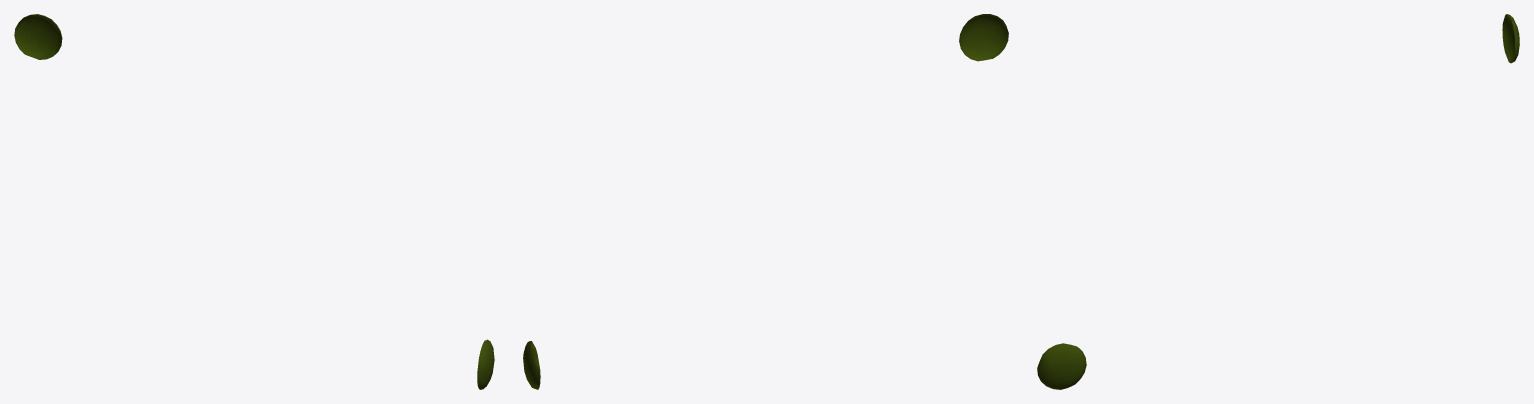
File: mc_side_right_ext_win_lod01.FBX
The picture shows the model from 3 angles, left to right: view 1: azimuth 30°, elevation 25°; view 2: azimuth 150°, elevation 25°; view 3: azimuth 330°, elevation 25°; orthographic projection.
Visible parts, largest first — view 1: mc_side_right_win; view 2: mc_side_right_win; view 3: mc_side_right_win.
Part boxes in pixels (<box>): mc_side_right_win: <box>14,14,494,389</box>; mc_side_right_win: <box>523,14,1008,389</box>; mc_side_right_win: <box>1037,14,1519,389</box>.
Bounding box in the file's own units: 3.54 × 4.86 × 88.52.
